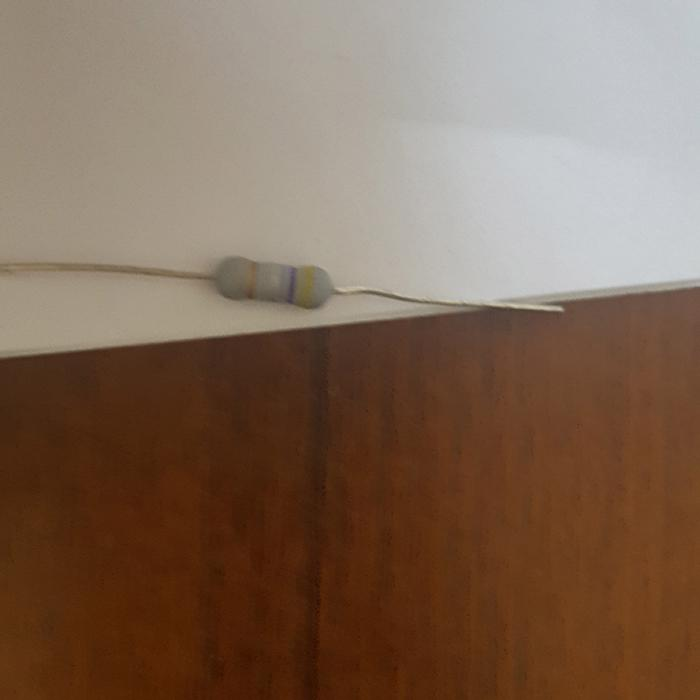resistor: (211, 255, 337, 309)
